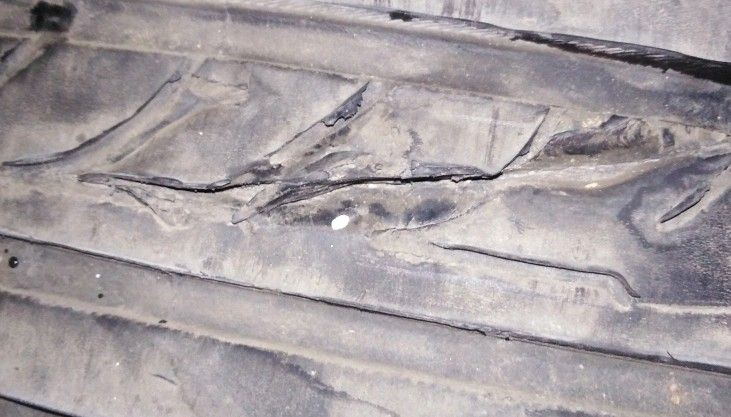tr: (70, 163, 512, 205)
